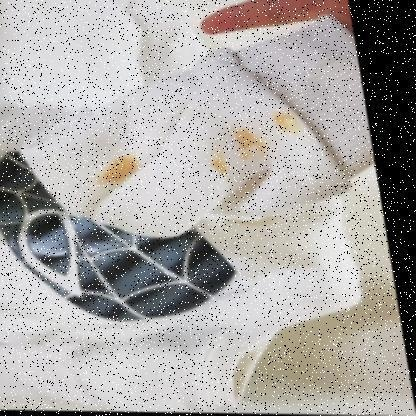kimchi: (97, 154, 141, 184), (264, 106, 298, 141), (227, 127, 261, 157), (212, 159, 225, 174)
